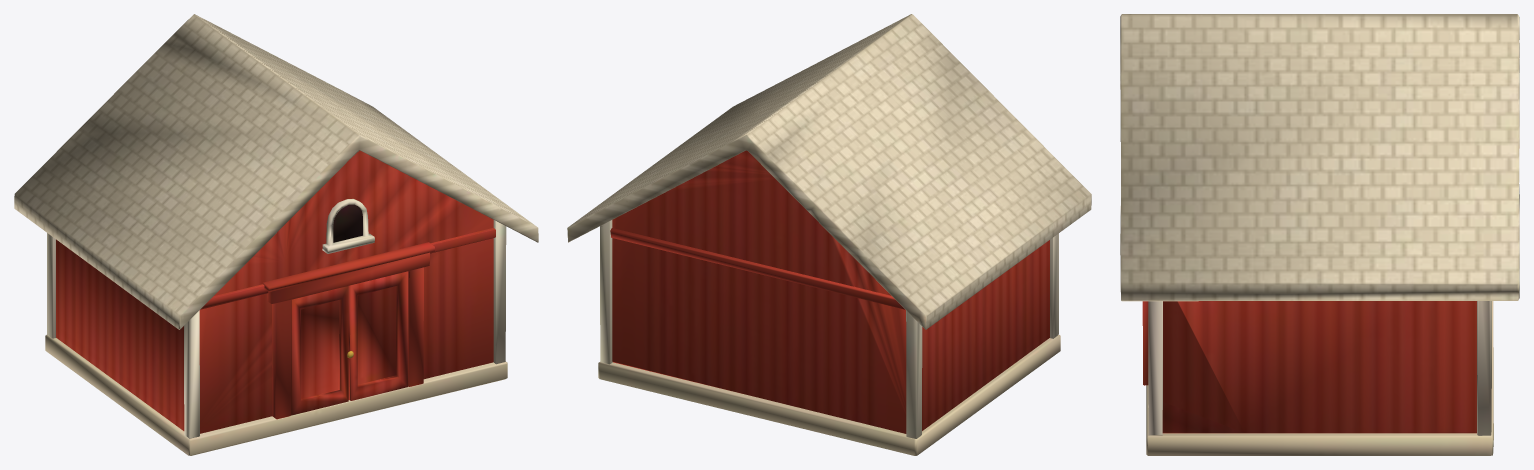
Rendered from barn.glb.
3 views of the same model, side by side, from view 1: azimuth 30°, elevation 25°; view 2: azimuth 150°, elevation 25°; view 3: azimuth 270°, elevation 25° (orthographic). The views are drawn at different scales.
Visible parts, largest first — view 1: foundation; view 2: foundation; view 3: foundation.
Boxes of the visible parts, x1,y1,x2,y2 form: foundation: (14, 14, 538, 455); foundation: (567, 14, 1091, 455); foundation: (1120, 14, 1519, 455).
Bounding box in the file's own units: 5.22 × 4.03 × 4.18.
1 material, 1 textured.
